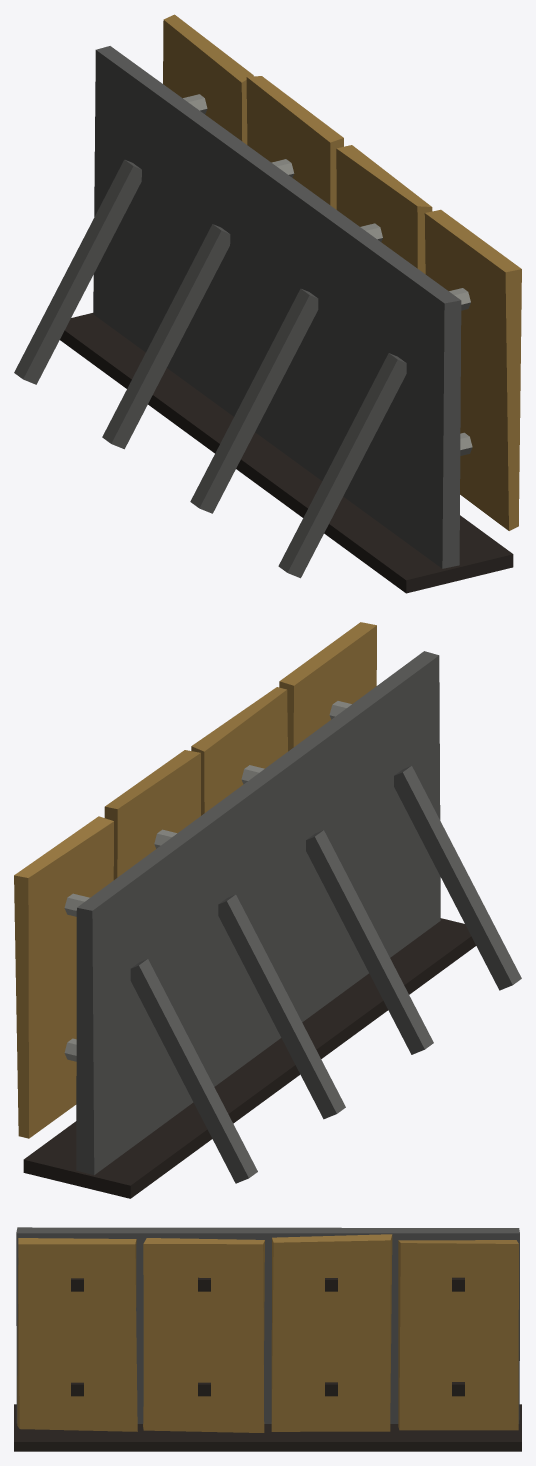
Rendered from arm_spaced.glb.
3 renders of one model, top to bottom at view 1: azimuth 30°, elevation 25°; view 2: azimuth 150°, elevation 25°; view 3: azimuth 270°, elevation 25°, orthographic. The views are drawn at different scales.
Parts seen in each view (by area): view 1: arm_spaced; view 2: arm_spaced; view 3: arm_spaced.
Part boxes in pixels (bbox=[...]): arm_spaced: bbox=[14, 14, 521, 593]; arm_spaced: bbox=[14, 622, 521, 1198]; arm_spaced: bbox=[14, 1227, 521, 1451].
Size of the model in its own units: 0.6413 by 0.9113 by 1.94.
